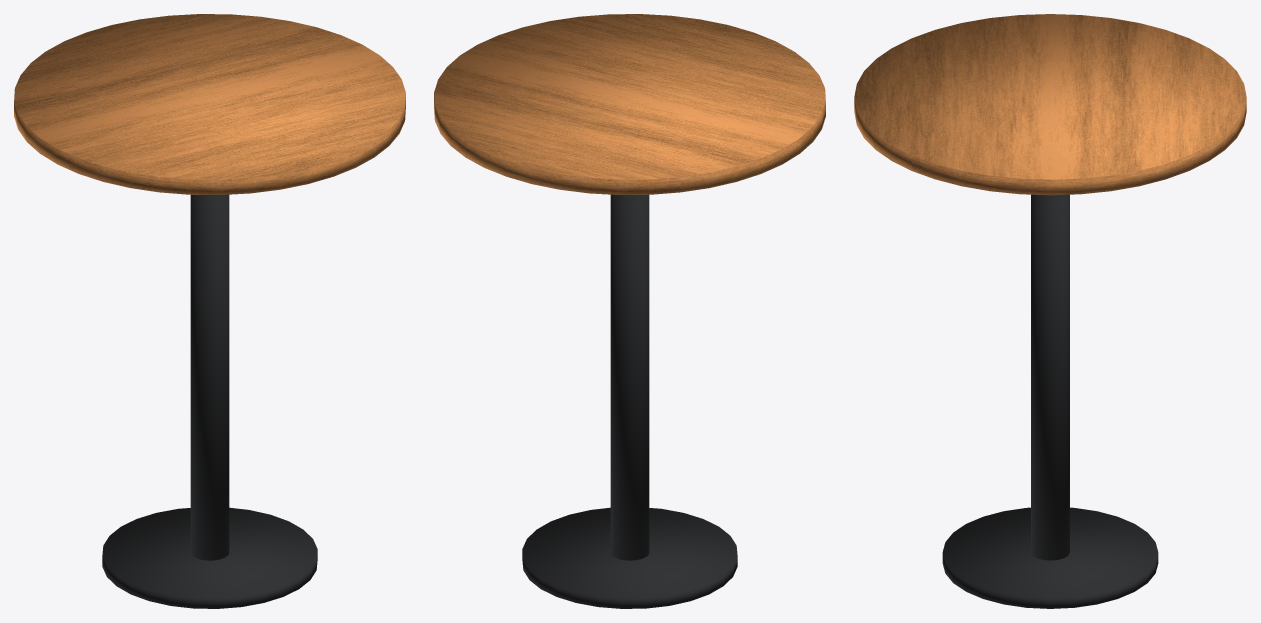
The model's file is lounge.round-high-table.glb.
3 renders of one model, left to right at view 1: azimuth 30°, elevation 25°; view 2: azimuth 150°, elevation 25°; view 3: azimuth 270°, elevation 25°, orthographic.
Visible parts, largest first — view 1: lounge.round-high-table.001; view 2: lounge.round-high-table.001; view 3: lounge.round-high-table.001.
Boxes of the visible parts, x1,y1,x2,y2 form: lounge.round-high-table.001: (14,14,405,608); lounge.round-high-table.001: (434,14,825,608); lounge.round-high-table.001: (854,14,1246,608).
Size of the model in its own units: 0.8 by 1.05 by 0.8.
2 materials, 1 textured.
